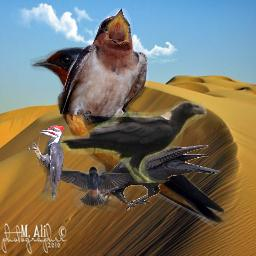Crow: (60, 101, 207, 183), (107, 145, 222, 212)
Swallow: (30, 47, 226, 227), (60, 8, 148, 125), (46, 165, 133, 207)
Woodpecker: (27, 125, 66, 201)
